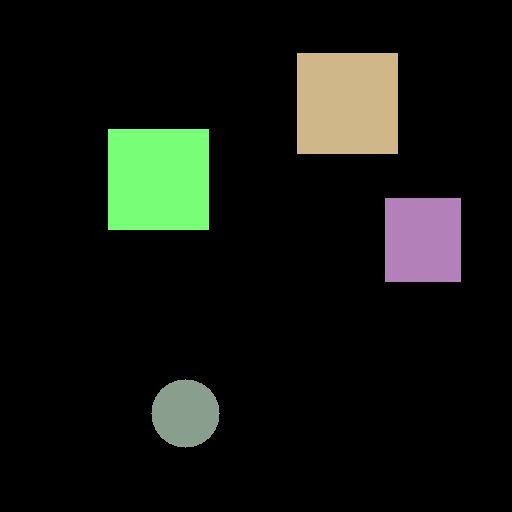circle: (151, 379, 219, 447)
square: (108, 129, 208, 229), (297, 53, 397, 153), (385, 198, 460, 281)
